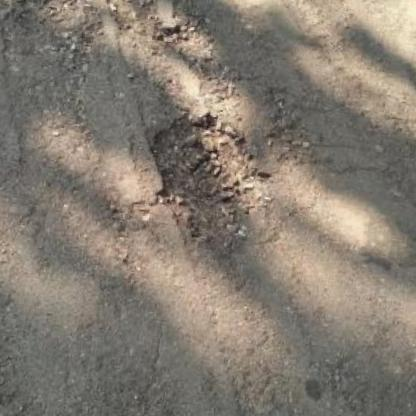pothole: (130, 110, 280, 249)
